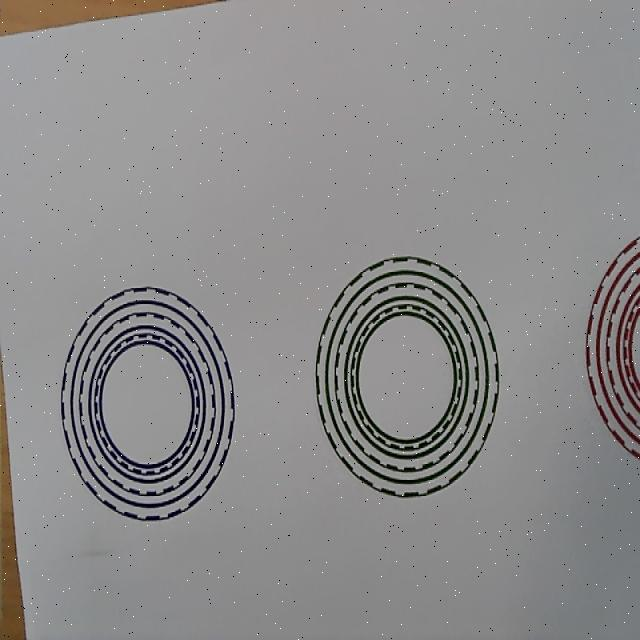b: (60, 287, 234, 522)
g: (316, 256, 500, 498)
